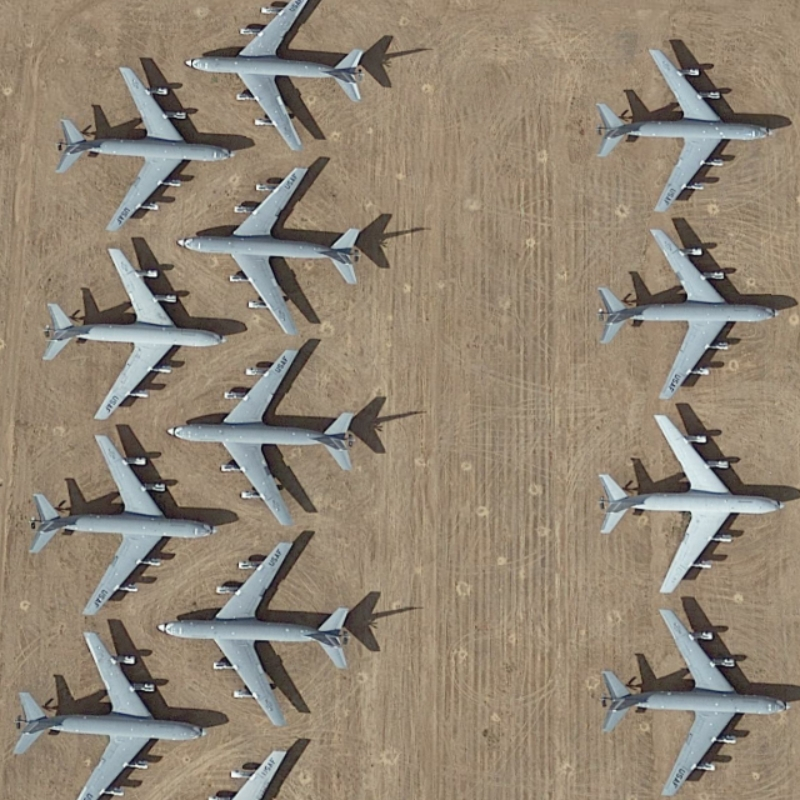A14: (7, 622, 228, 800), (159, 534, 357, 732), (596, 605, 796, 800), (22, 429, 221, 619), (167, 161, 378, 340), (165, 344, 371, 526), (577, 39, 785, 217), (592, 410, 787, 597), (593, 214, 782, 406), (40, 239, 226, 426), (53, 62, 237, 237), (177, 2, 377, 161)
